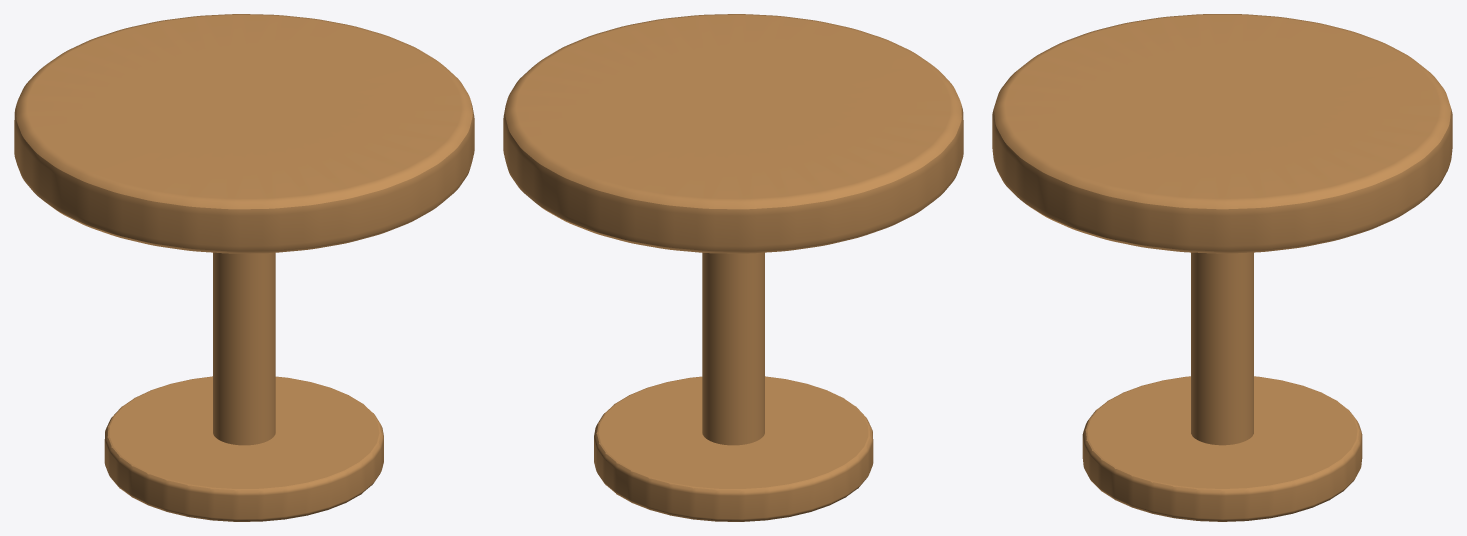
Rendered from table circle.fbx.
3 views of the same model, side by side, from view 1: azimuth 30°, elevation 25°; view 2: azimuth 150°, elevation 25°; view 3: azimuth 270°, elevation 25° (orthographic).
Parts seen in each view (by area): view 1: pCylinder3, pasted__pCylinder3; view 2: pCylinder3, pasted__pCylinder3; view 3: pCylinder3, pasted__pCylinder3.
Part boxes in pixels (bbox=[...]): pCylinder3: bbox=[14, 14, 474, 253]; pasted__pCylinder3: bbox=[104, 252, 383, 521]; pCylinder3: bbox=[503, 14, 963, 253]; pasted__pCylinder3: bbox=[594, 252, 873, 521]; pCylinder3: bbox=[992, 14, 1452, 253]; pasted__pCylinder3: bbox=[1082, 252, 1362, 521].
Bounding box in the file's own units: 1.99 × 1.71 × 2.
